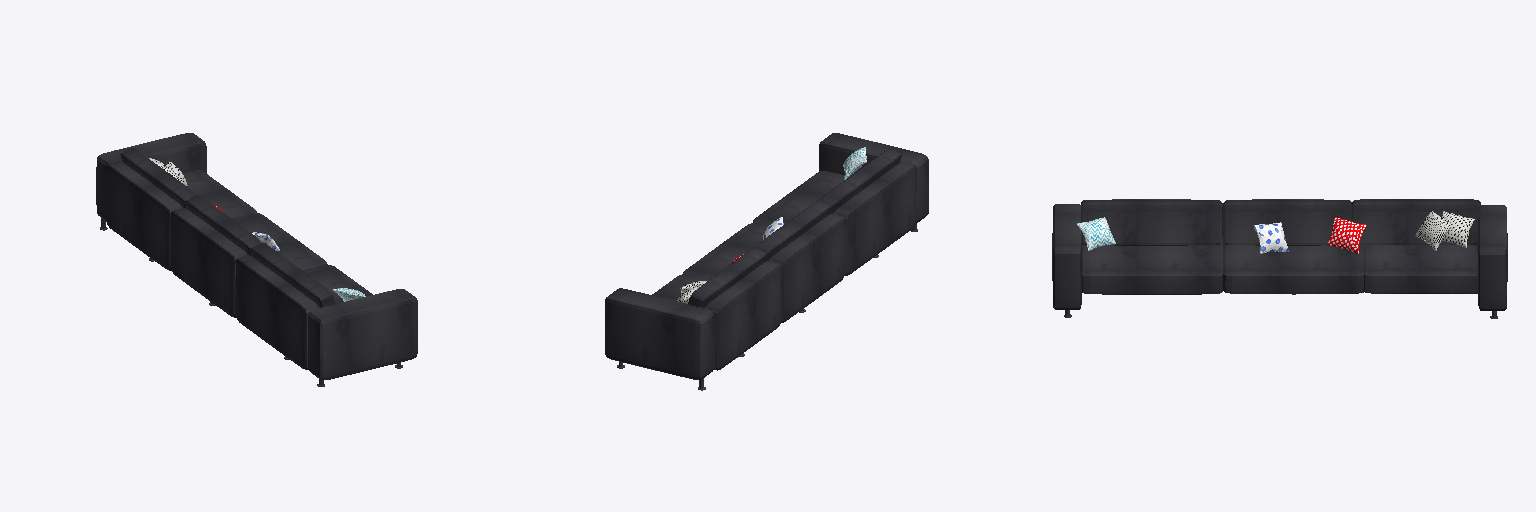
3 views of the same model, side by side, from view 1: azimuth 30°, elevation 25°; view 2: azimuth 150°, elevation 25°; view 3: azimuth 270°, elevation 25° (orthographic).
Parts seen in each view (by area): view 1: polySurface4Rectangle04; view 2: polySurface4Rectangle04; view 3: polySurface4Rectangle04.
Part boxes in pixels (x1,y1,x2,y2): polySurface4Rectangle04: (96, 133, 417, 386); polySurface4Rectangle04: (605, 133, 928, 390); polySurface4Rectangle04: (1052, 199, 1507, 318).
Bounding box in the file's own units: 89.49 × 70.85 × 345.
Materials: 6 (5 with a texture image).